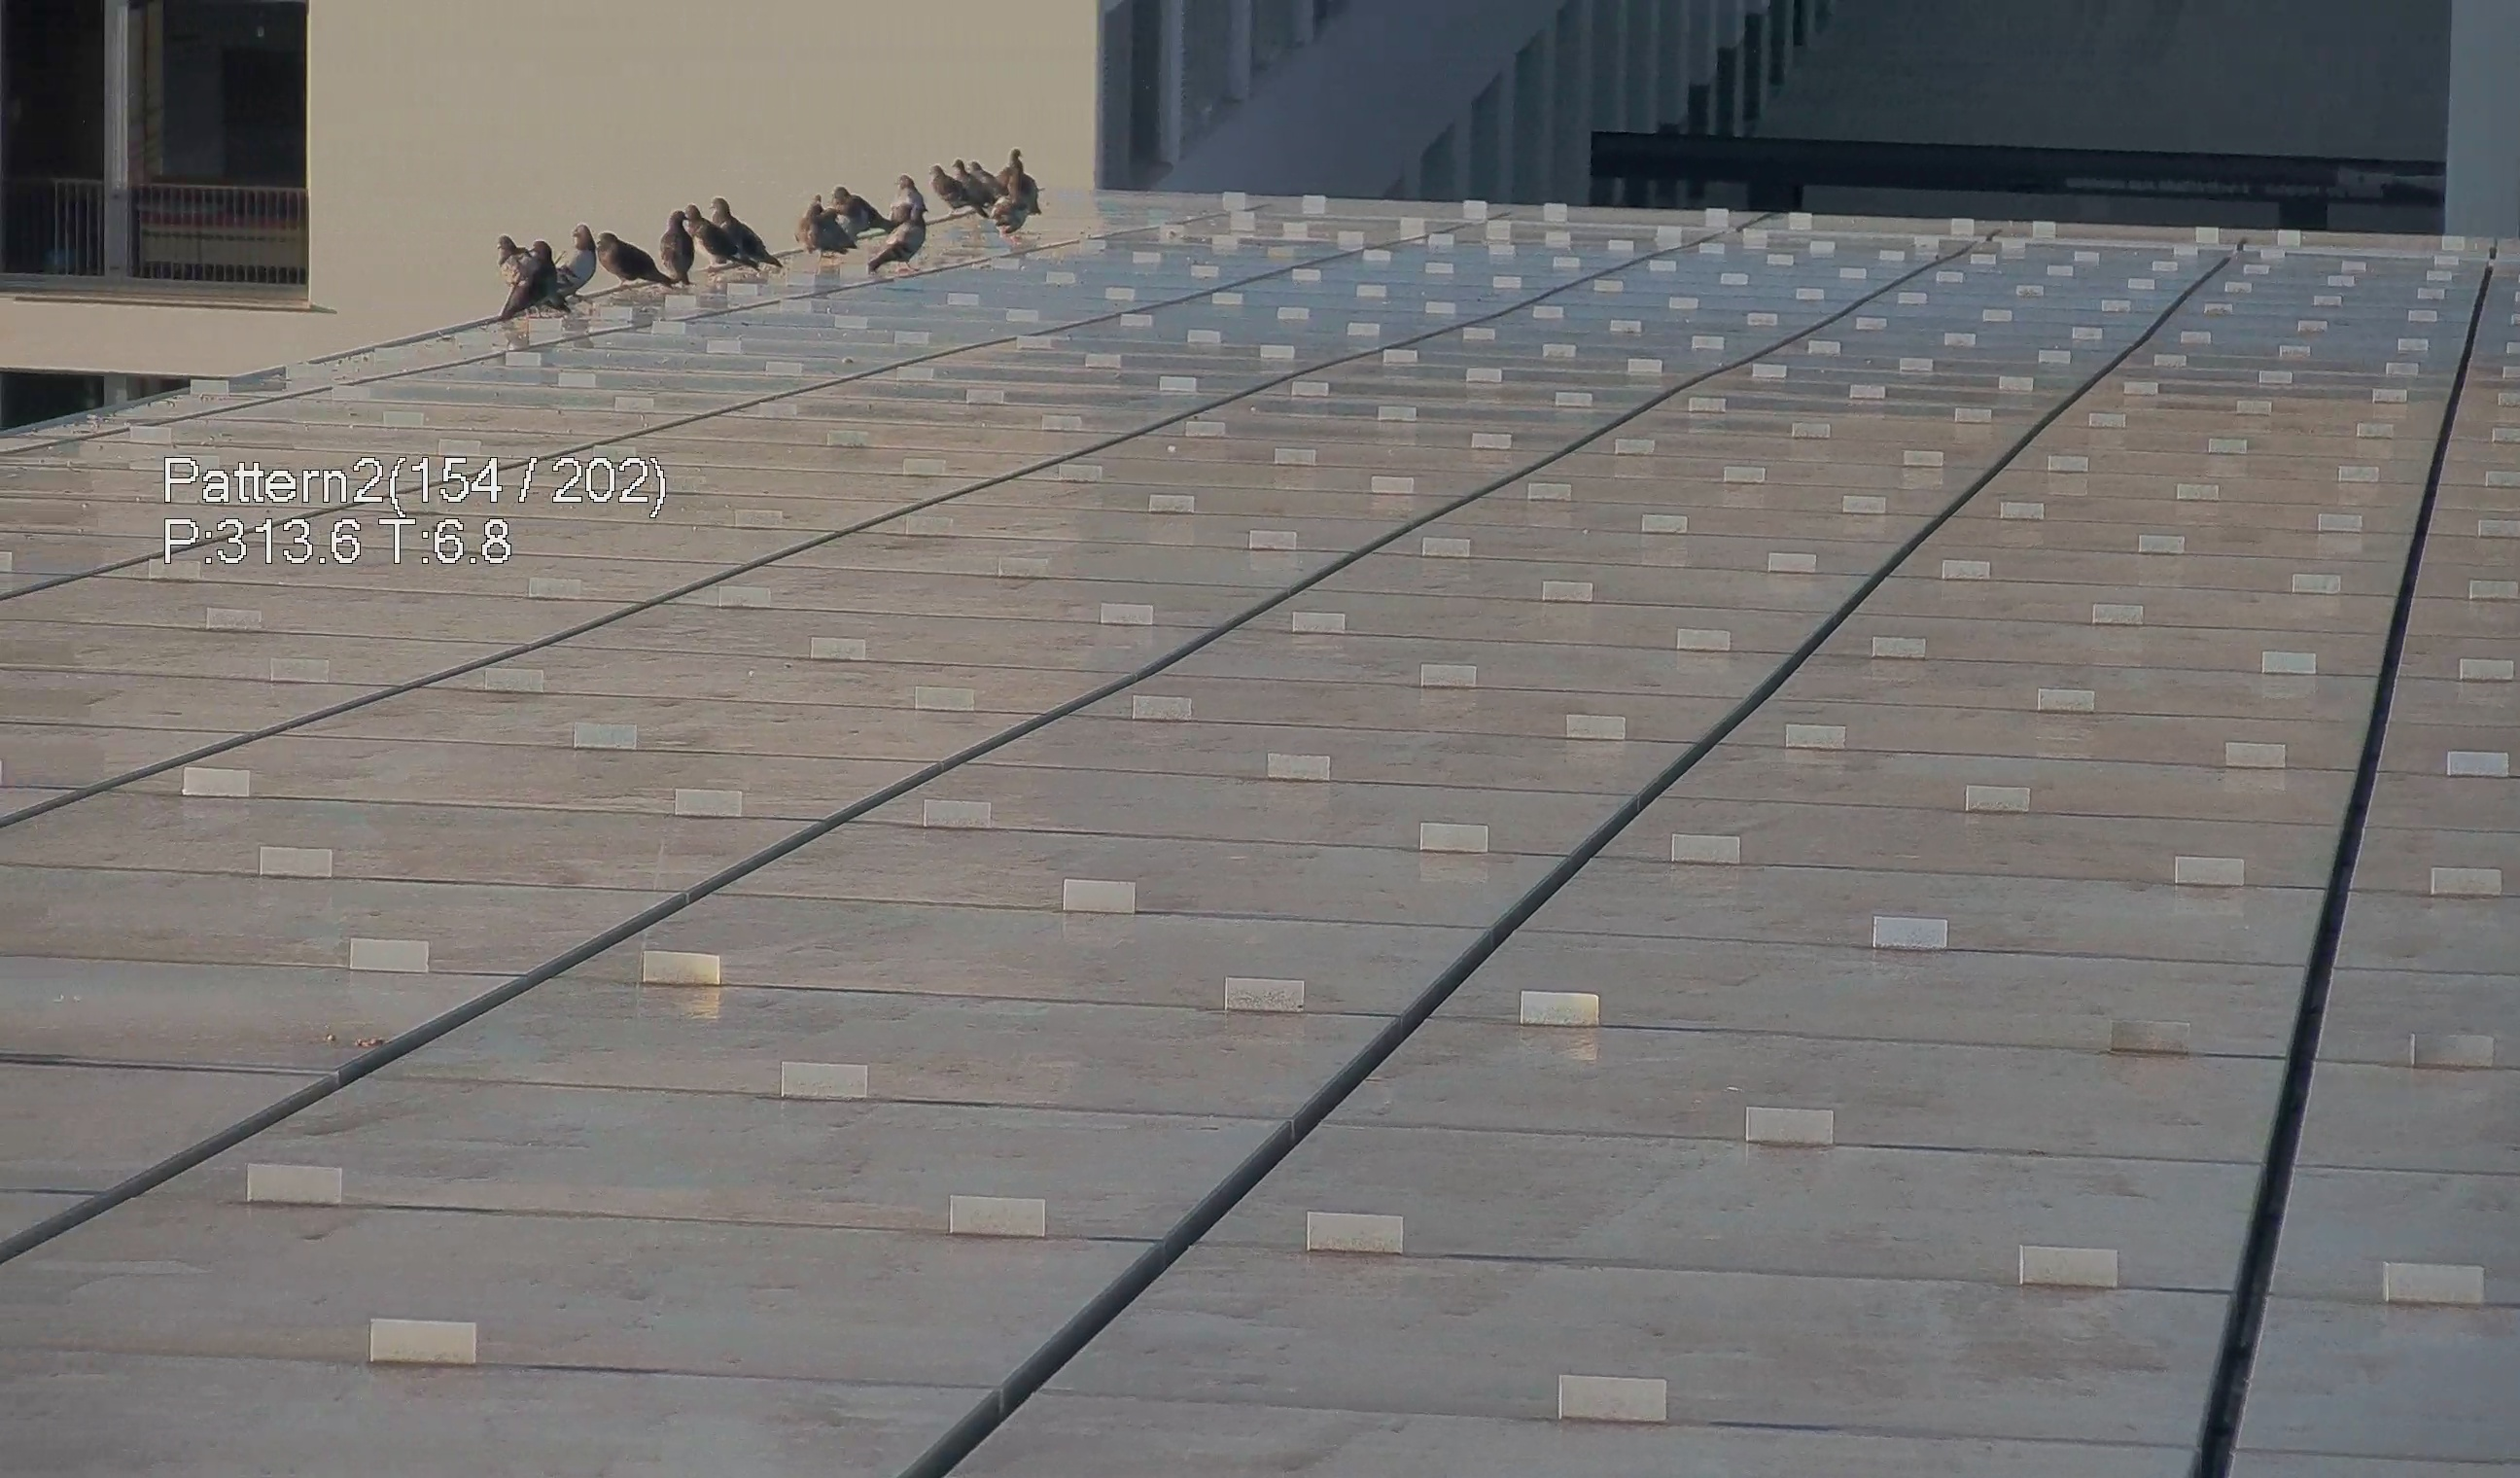Pigeon: (714, 194, 779, 273), (869, 201, 934, 278), (684, 206, 758, 273), (594, 230, 674, 290), (501, 241, 559, 320), (550, 223, 600, 308), (652, 208, 696, 285), (930, 165, 987, 220), (835, 183, 893, 236), (811, 206, 853, 260), (995, 172, 1031, 238), (950, 157, 997, 204), (990, 148, 1029, 204)
